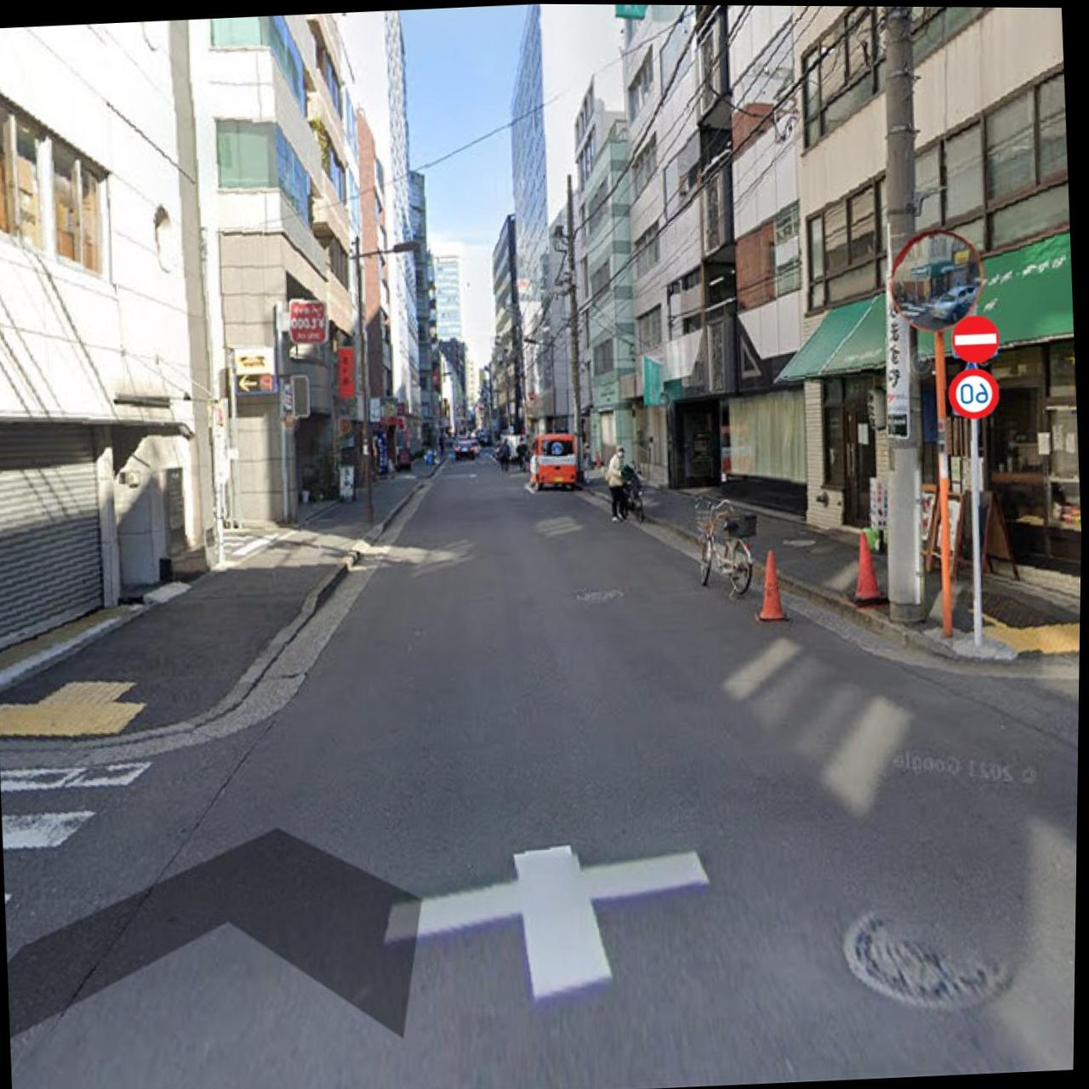barrier: (945, 313, 1006, 364)
